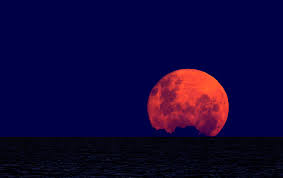moon: (146, 68, 230, 137)
